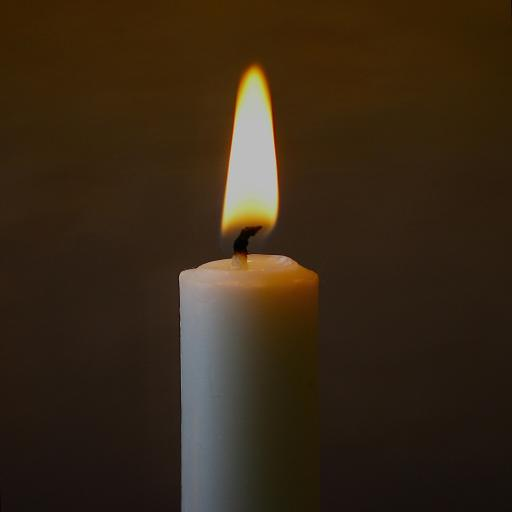candlelight: (178, 58, 334, 512)
